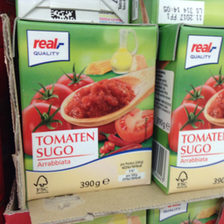tomato_sauce: (17, 19, 159, 205)
